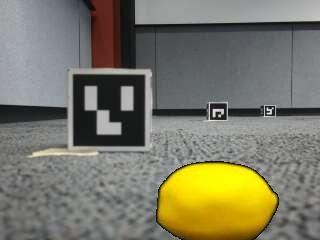lemon: (160, 162, 279, 238)
